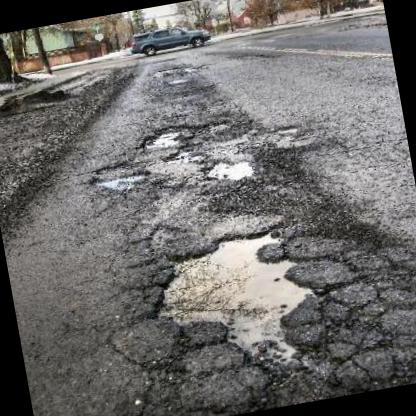pothole: (134, 216, 336, 390), (86, 157, 152, 196), (136, 119, 195, 154), (200, 154, 258, 188), (157, 142, 204, 166), (274, 121, 300, 136)
